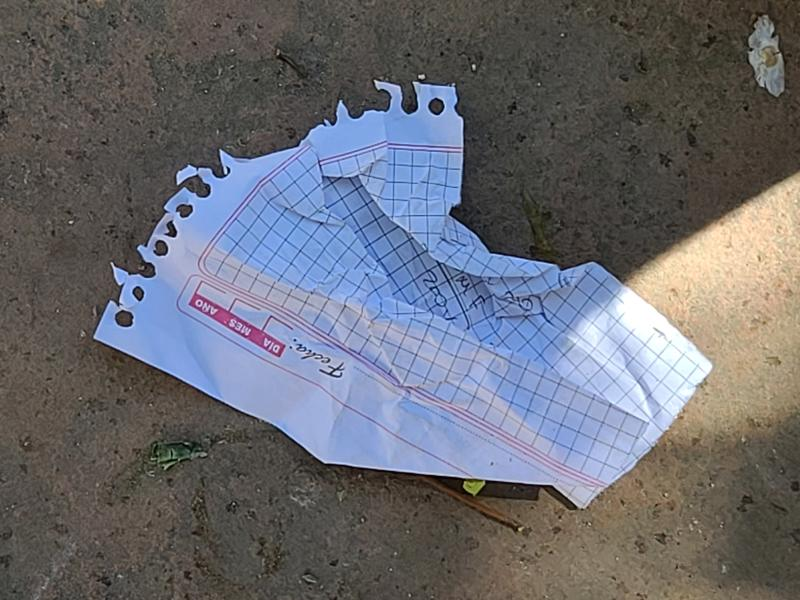papel: (94, 80, 714, 511)
